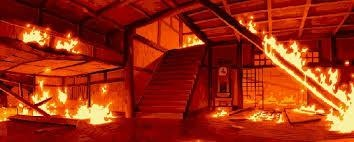fire: (6, 37, 114, 121), (20, 22, 81, 50)
